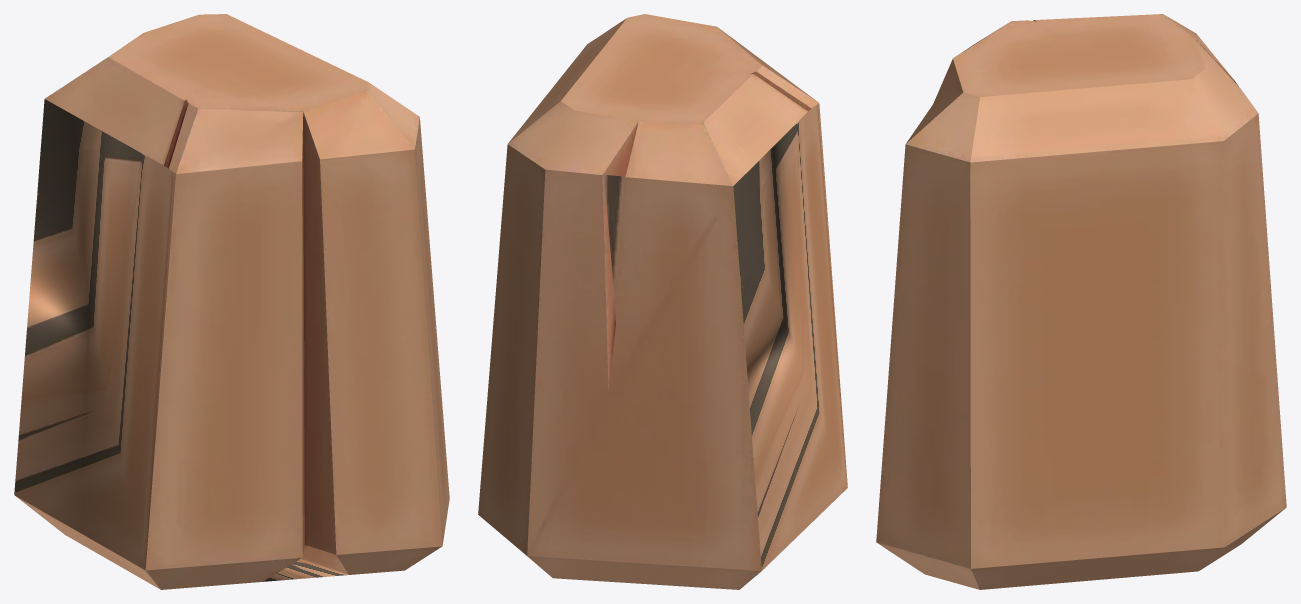
File: desert-rock-13.glb
3 renders of one model, left to right at view 1: azimuth 30°, elevation 25°; view 2: azimuth 150°, elevation 25°; view 3: azimuth 270°, elevation 25°, orthographic. The views are drawn at different scales.
Visible parts, largest first — view 1: Rock_11; view 2: Rock_11; view 3: Rock_11.
Part boxes in pixels (<box>): Rock_11: <box>14,14,449,589</box>; Rock_11: <box>478,14,847,589</box>; Rock_11: <box>876,14,1286,589</box>.
Bounding box in the file's own units: 1.08 × 1.5 × 1.18.
1 material, 1 textured.
